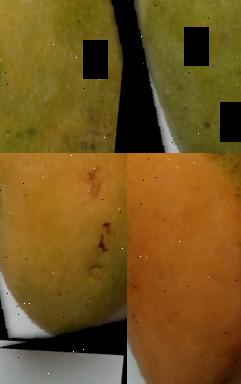PartiallyRipe: (0, 153, 127, 351), (0, 0, 127, 153)
Ripe: (127, 153, 241, 384)
Unripe: (127, 0, 241, 153)
